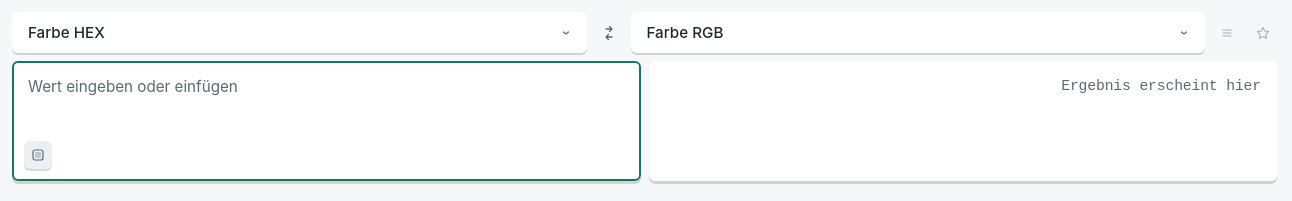
it: keeps released HEX to RGB text while normalizing the native color preview to HEX
In the text box named "Eingabetext": (326, 121) [12,61,640,181], type "#ff0000"
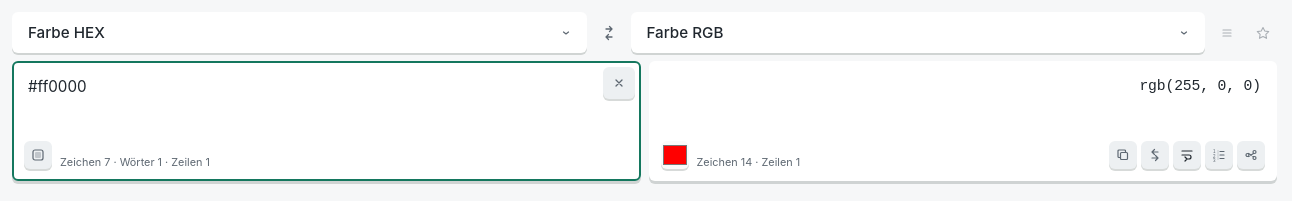
Expected: the text box named "Konvertierungsergebnis" holds "rgb(255, 0, 0)", [648,61,1277,181]
Expected: the colour field named "Farbvorschau" holds "#ff0000", [660,141,688,169]
